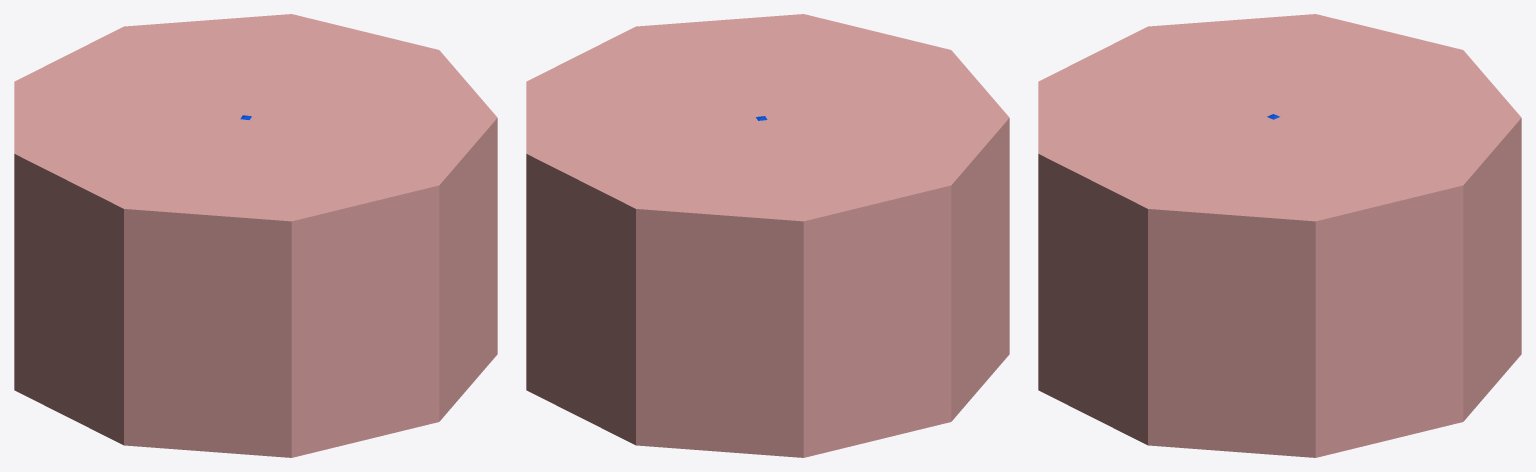
The model's file is Player.glb.
3 views of the same model, side by side, from view 1: azimuth 30°, elevation 25°; view 2: azimuth 150°, elevation 25°; view 3: azimuth 270°, elevation 25° (orthographic).
Parts seen in each view (by area): view 1: player_sensor; view 2: player_sensor; view 3: player_sensor.
Boxes of the visible parts, x1,y1,x2,y2 form: player_sensor: (14,14,497,457); player_sensor: (526,14,1009,457); player_sensor: (1038,14,1521,457).
Size of what is drawn, in the model's own units: 3.72 by 2 by 3.67.
